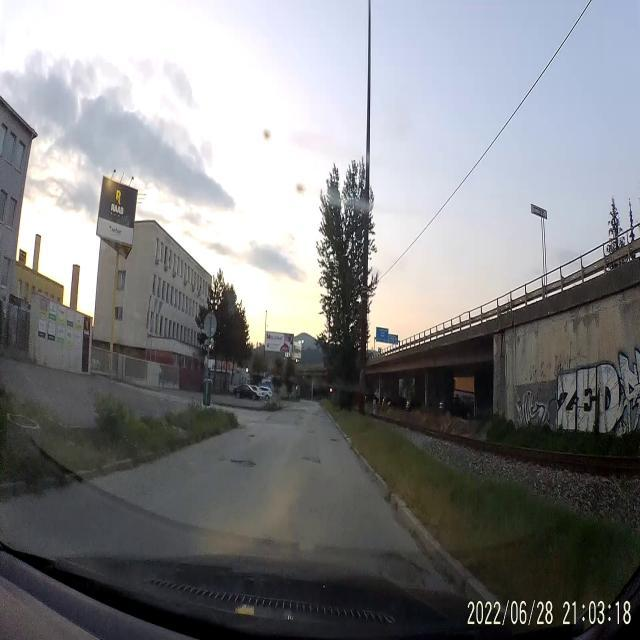Pothole: (228, 451, 258, 471), (300, 452, 324, 467), (330, 436, 340, 444), (306, 428, 314, 437), (248, 431, 254, 438)
